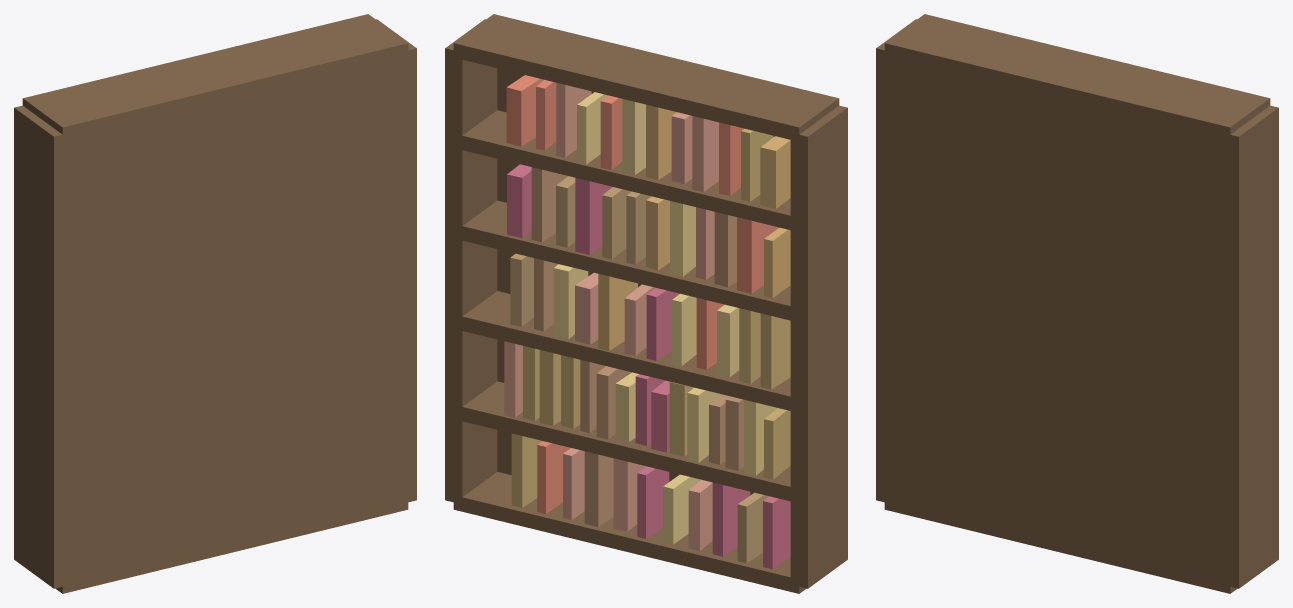
3 views of the same model, side by side, from view 1: azimuth 30°, elevation 25°; view 2: azimuth 150°, elevation 25°; view 3: azimuth 330°, elevation 25° (orthographic).
Parts seen in each view (by area): view 1: Cube.002, Cube, Cube.008, Cube.003, Cube.007, Cube.001, Cube.005, Cube.006, Cube.004; view 2: Cube, Cube.008, Cube.001, Cube.003, Cube.005, Cube.007, Cube.006, Cube.004, Cube.002, Book.026, Book.007, Book.033 (+59 smaller); view 3: Cube.002, Cube.001, Cube.008, Cube, Cube.007, Cube.003, Cube.005, Cube.006, Cube.004.
Part boxes in pixels (x1,y1,x2,y2): Cube.002: (62, 50, 408, 577); Cube: (14, 105, 71, 588); Cube.008: (22, 14, 408, 141); Cube.003: (55, 495, 408, 593); Cube.007: (62, 133, 408, 231); Cube.001: (376, 19, 416, 503); Cube.005: (62, 314, 408, 412); Cube.006: (65, 224, 408, 320); Cube.004: (62, 405, 408, 503); Cube: (790, 105, 847, 588); Cube.008: (453, 14, 839, 141); Cube.001: (445, 19, 497, 504); Cube.003: (453, 472, 806, 593); Cube.005: (454, 291, 799, 412); Cube.007: (453, 110, 799, 232); Cube.006: (453, 200, 799, 322); Cube.004: (456, 381, 799, 503); Cube.002: (497, 68, 779, 495); Book.026: (760, 313, 790, 389); Book.007: (584, 451, 613, 527); Book.033: (598, 274, 637, 350); Cube.002: (884, 52, 1230, 579); Cube.001: (1221, 105, 1278, 588); Cube.008: (884, 14, 1270, 141); Cube: (876, 19, 916, 504); Cube.007: (884, 134, 1230, 231); Cube.003: (884, 495, 1237, 593); Cube.005: (885, 314, 1230, 412); Cube.006: (884, 224, 1229, 322); Cube.004: (895, 408, 1230, 503).
Bounding box in the file's own units: 2.1 × 2.58 × 0.4.
